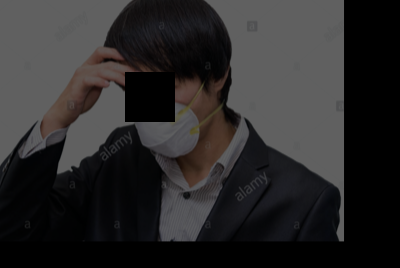with_mask: (127, 74, 214, 158)
